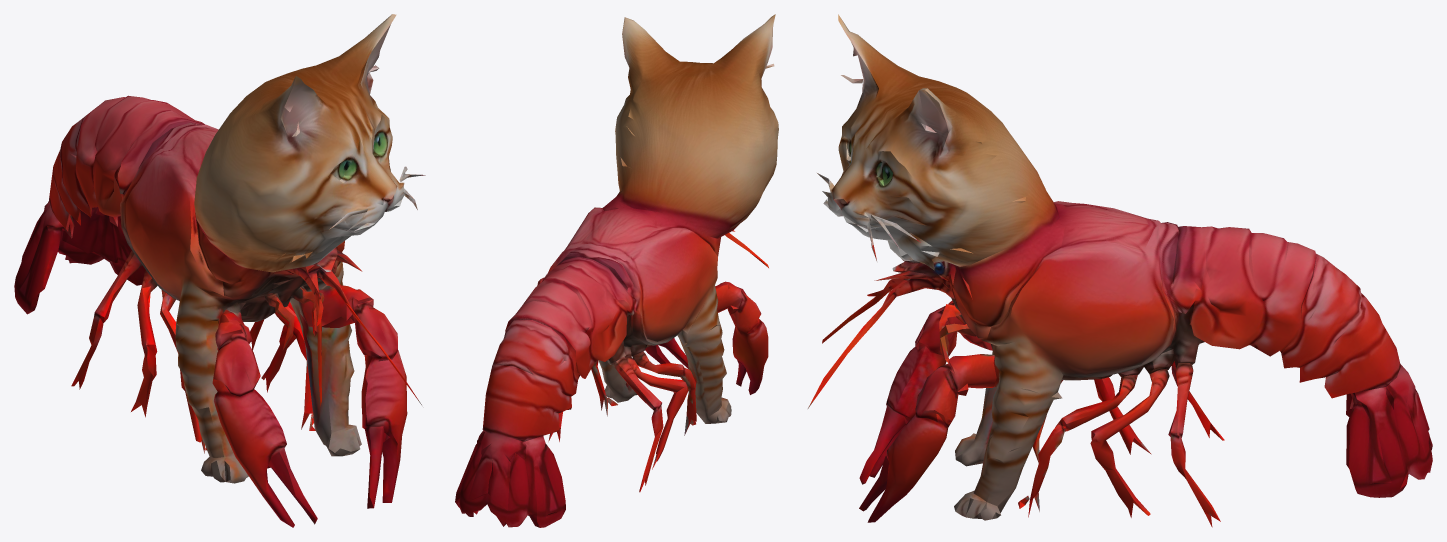
The model's file is gatto_langosta_v2_i_created_brainrot.glb.
3 renders of one model, left to right at view 1: azimuth 30°, elevation 25°; view 2: azimuth 150°, elevation 25°; view 3: azimuth 270°, elevation 25°, orthographic. The views are drawn at different scales.
Parts seen in each view (by area): view 1: Object_2; view 2: Object_2; view 3: Object_2.
Part boxes in pixels (x1,y1,x2,y2): Object_2: [14, 14, 425, 527]; Object_2: [455, 14, 778, 527]; Object_2: [808, 14, 1432, 527].
Bounding box in the file's own units: 0.3452 × 0.7885 × 0.9776.
1 material, 1 textured.
